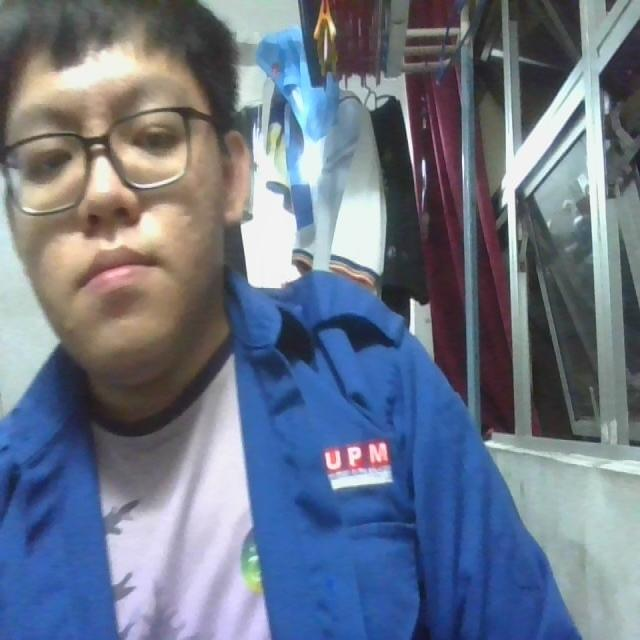person_with_labcoat: (0, 0, 578, 639), (226, 272, 579, 639)
